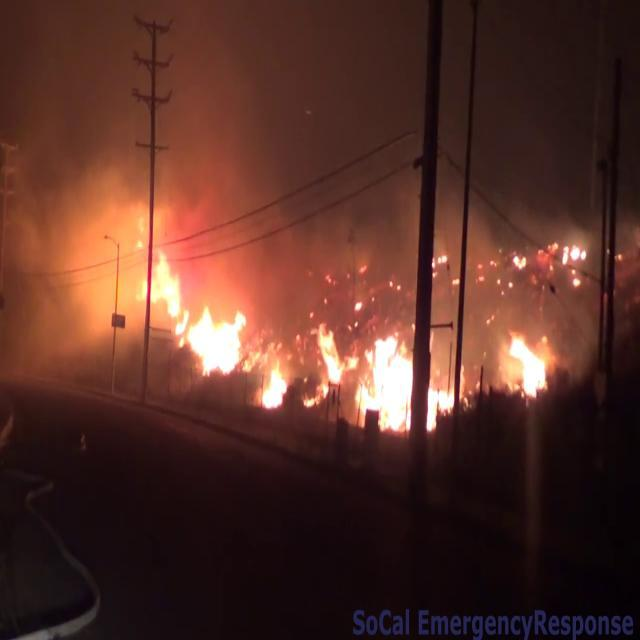Fire: (133, 228, 255, 379), (358, 328, 418, 432), (301, 311, 352, 411), (504, 326, 552, 404), (258, 354, 290, 412)
Smoke: (5, 5, 350, 302), (294, 87, 640, 366)
